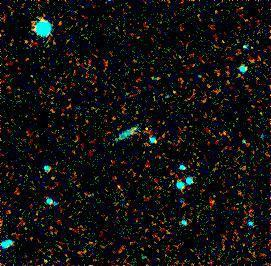star: (130, 110, 160, 140)
